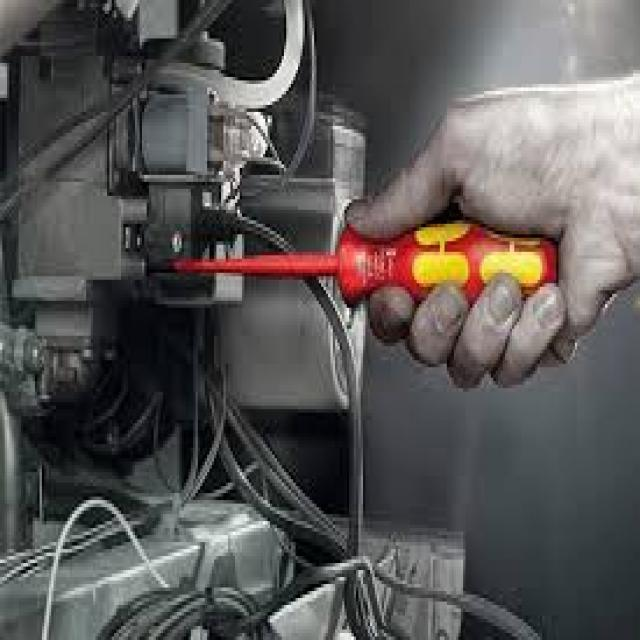screwdriver: (150, 203, 567, 304)
